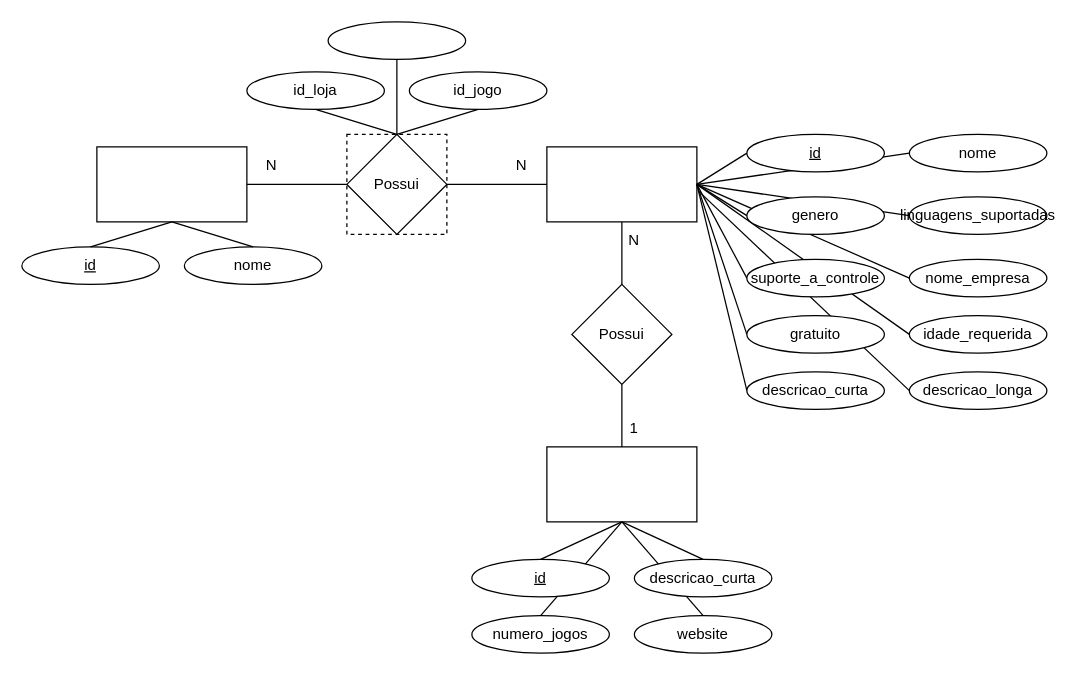
The diagram is 1078 pixels wide and 675 high, and some of its shapes have lost their labels. Here are the shapes that lost their labels. From the top down, the box of each, then its label:
(327, 21, 466, 59): preco
(96, 146, 247, 222): Loja
(546, 146, 697, 222): Jogo
(546, 446, 697, 522): Empresa
